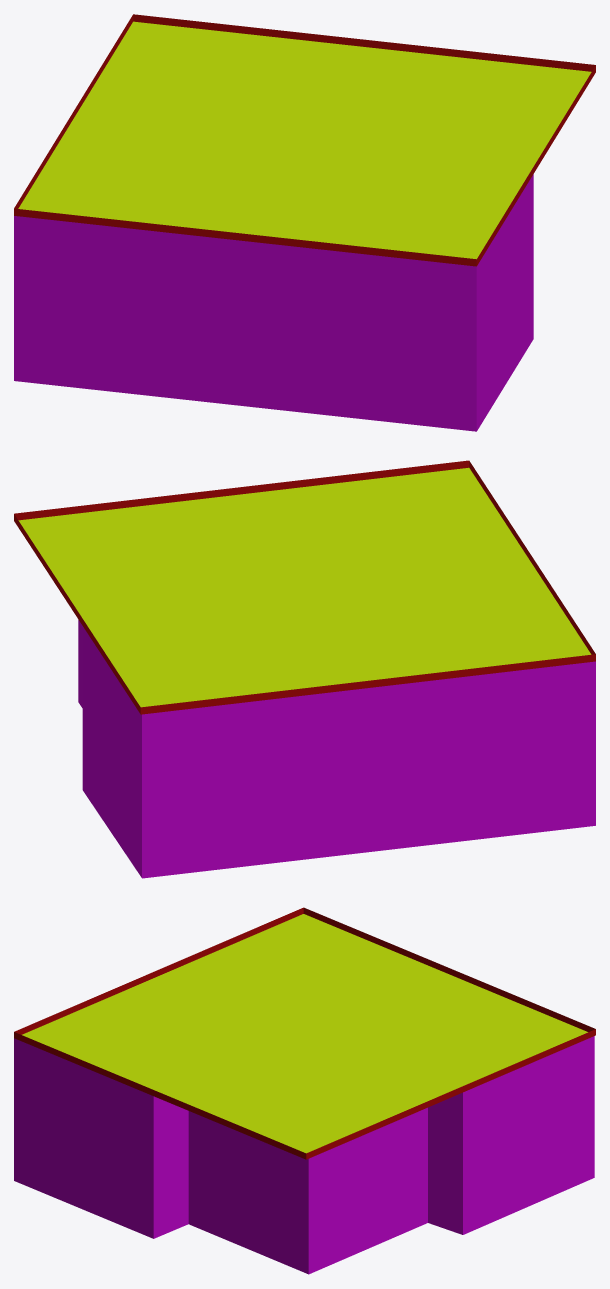
Rendered from bgj_134.glb.
3 renders of one model, top to bottom at view 1: azimuth 30°, elevation 25°; view 2: azimuth 150°, elevation 25°; view 3: azimuth 270°, elevation 25°, orthographic. The views are drawn at different scales.
Parts seen in each view (by area): view 1: bgj_134; view 2: bgj_134; view 3: bgj_134.
Boxes of the visible parts, box(x1,y1,x2,y2) form: bgj_134: box(14, 14, 595, 431); bgj_134: box(14, 460, 595, 878); bgj_134: box(14, 907, 595, 1274).
Bounding box in the file's own units: 29.22 × 8.25 × 29.22.
